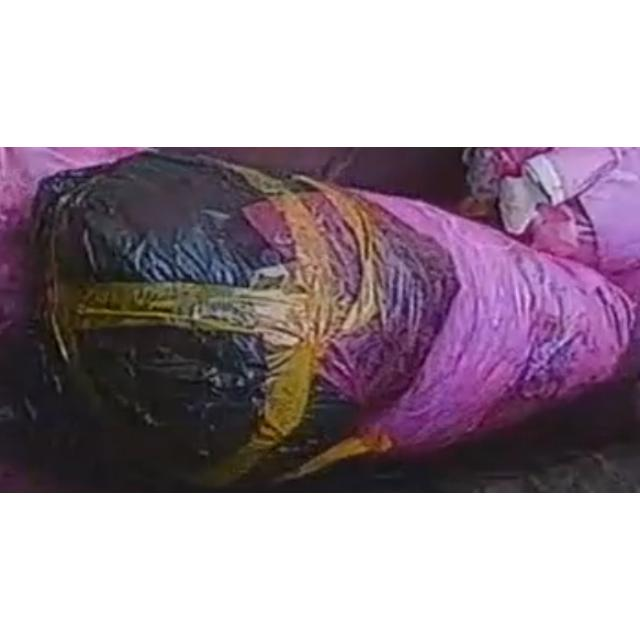other_trashbag: (34, 153, 635, 490)
